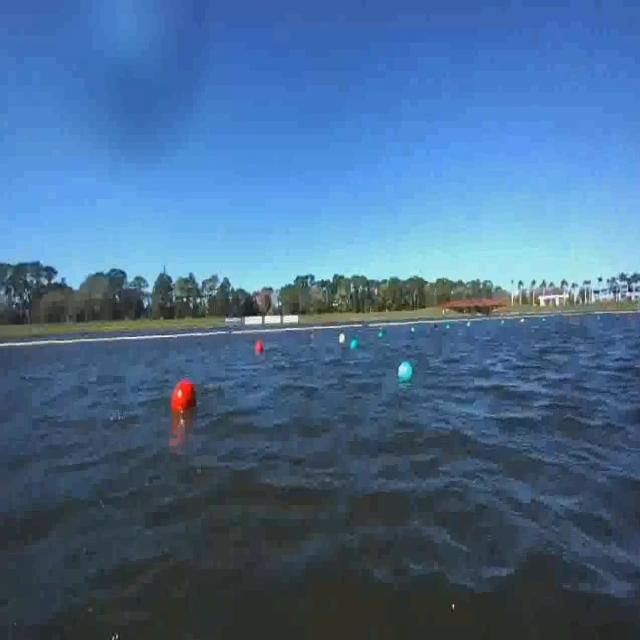green-buoy: (400, 360, 414, 382), (351, 339, 359, 351)
red-buoy: (170, 378, 201, 419), (255, 341, 263, 355)
yellow-buoy: (340, 334, 347, 346)
